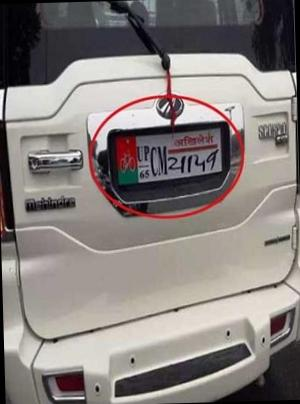plate: (109, 121, 232, 195)
